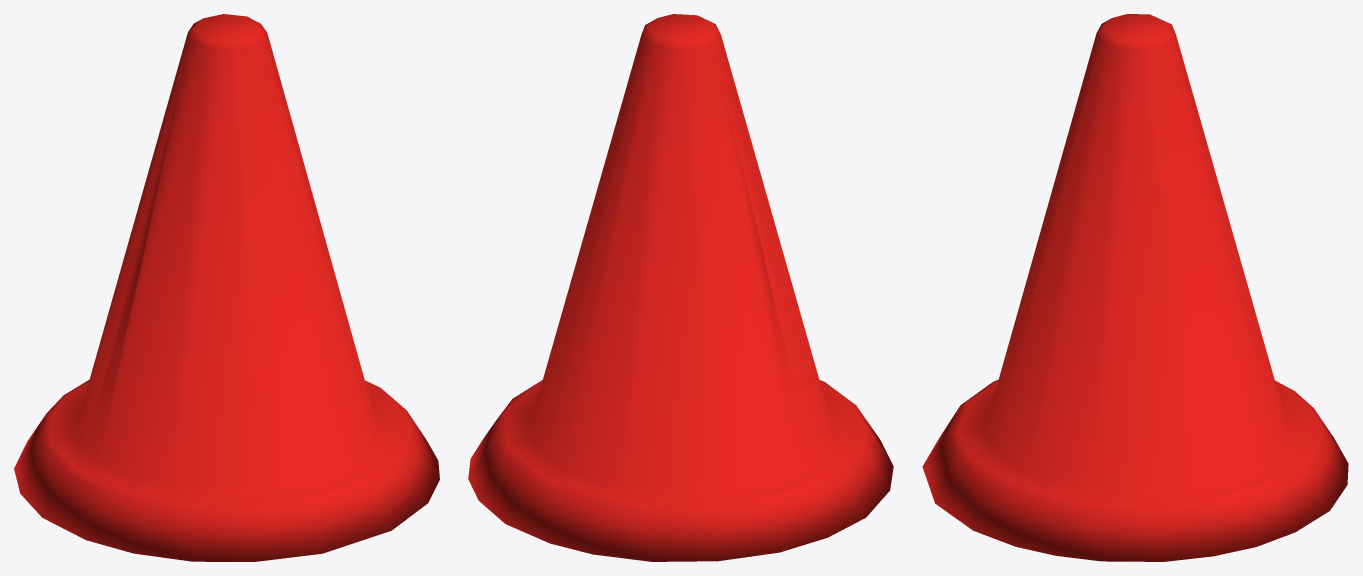
File: tobisouna color cone.fbx
3 renders of one model, left to right at view 1: azimuth 30°, elevation 25°; view 2: azimuth 150°, elevation 25°; view 3: azimuth 270°, elevation 25°, orthographic.
Parts seen in each view (by area): view 1: Plane; view 2: Plane; view 3: Plane.
Boxes of the visible parts, left/top/right/bottom form: Plane: left=14, top=14, right=439, bottom=561; Plane: left=468, top=14, right=893, bottom=561; Plane: left=922, top=14, right=1348, bottom=561.
Size of the model in its own units: 175 by 202 by 175.
